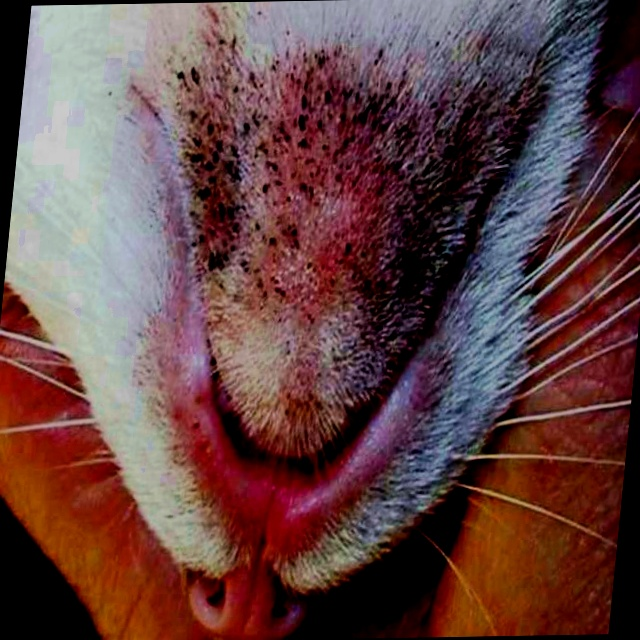acne: (146, 47, 484, 341)
